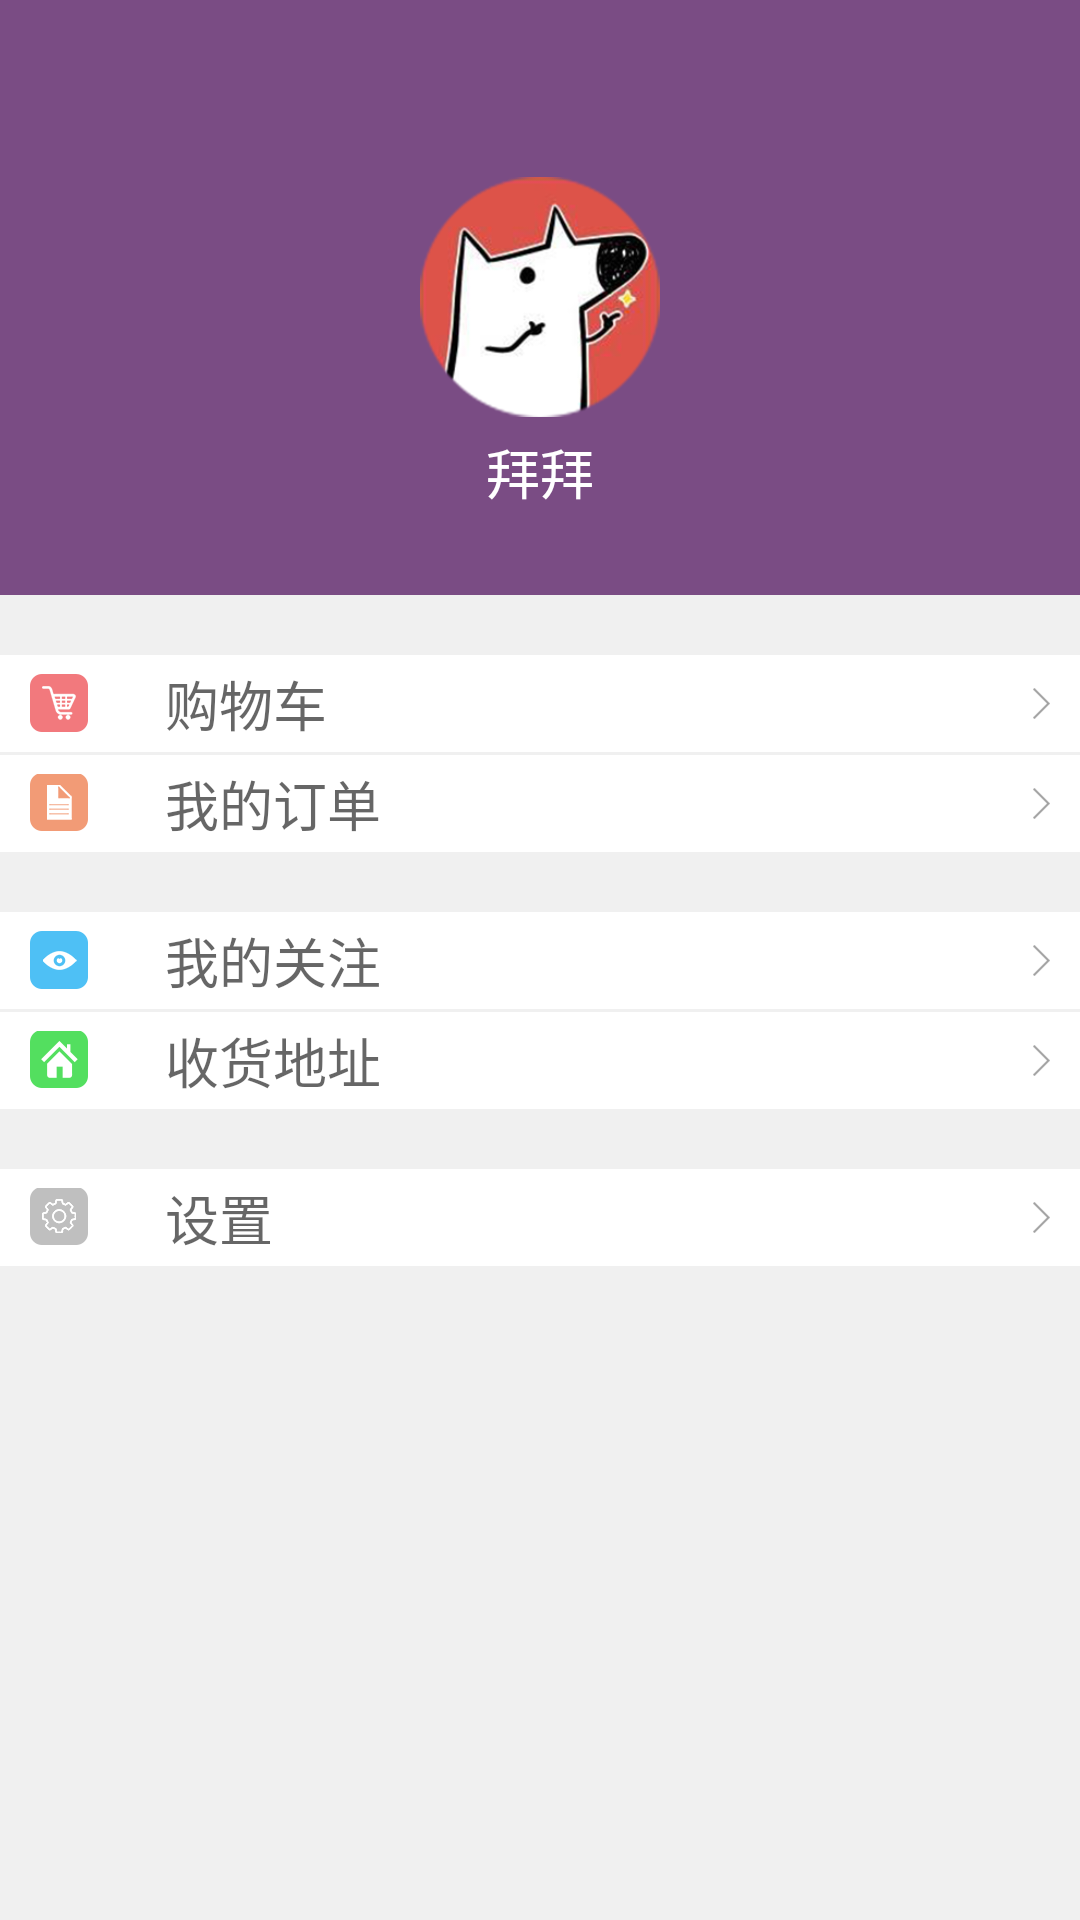

Icon bounding boxes for this 1080×1920 phone screenshot, format (x1, y1, x2, y2):
address: (30, 1031, 88, 1088)
follow: (30, 931, 88, 989)
setting: (30, 1188, 88, 1245)
shopping car: (30, 674, 88, 732)
shopping list: (30, 774, 88, 831)
